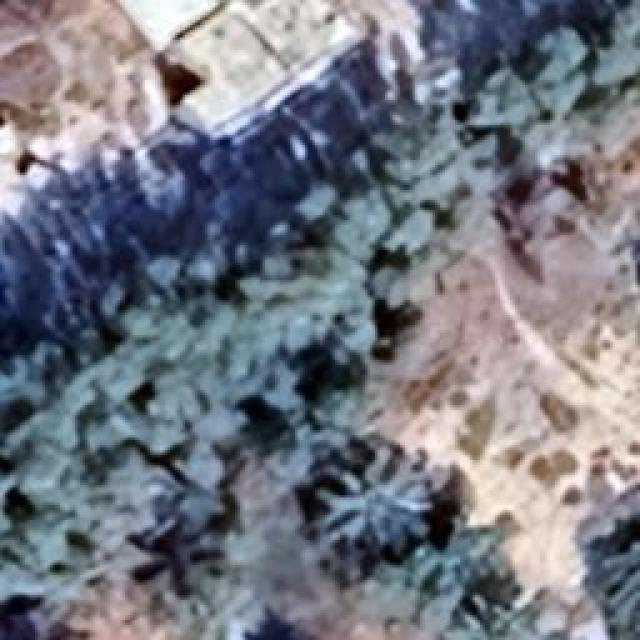PalmTree: (133, 55, 622, 569), (36, 118, 506, 610), (320, 442, 430, 548), (145, 574, 260, 638)
